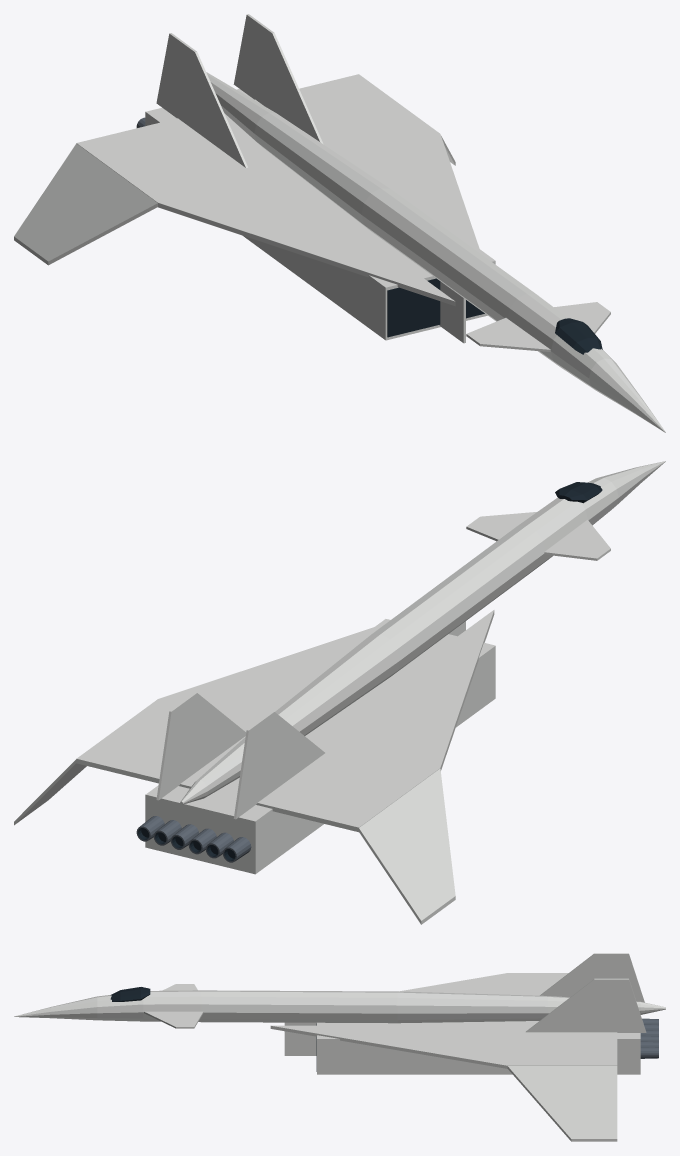
The picture shows the model from 3 angles, top to bottom: view 1: azimuth 30°, elevation 25°; view 2: azimuth 150°, elevation 25°; view 3: azimuth 270°, elevation 25°; orthographic projection. The views are drawn at different scales.
Visible parts, largest first — view 1: xb70 body; view 2: xb70 body; view 3: xb70 body.
Part boxes in pixels (box(x1,y1,x2,y2)): xb70 body: box(14, 14, 665, 432); xb70 body: box(14, 461, 665, 924); xb70 body: box(14, 953, 665, 1141).
Bounding box in the file's own units: 27.4 × 10.32 × 56.4.
